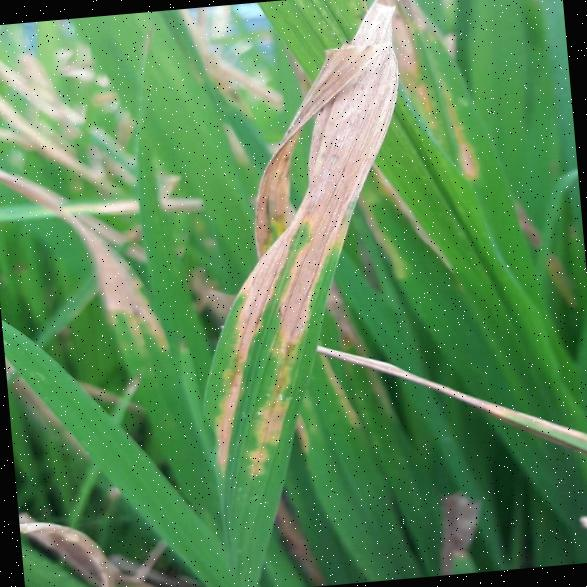Bacteria_Leaf_Blight: (170, 1, 436, 492)
